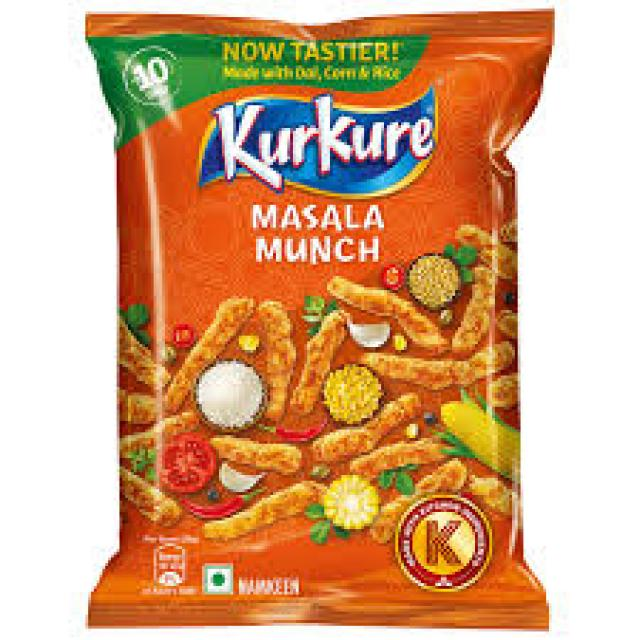kurkure: (73, 13, 575, 634)
